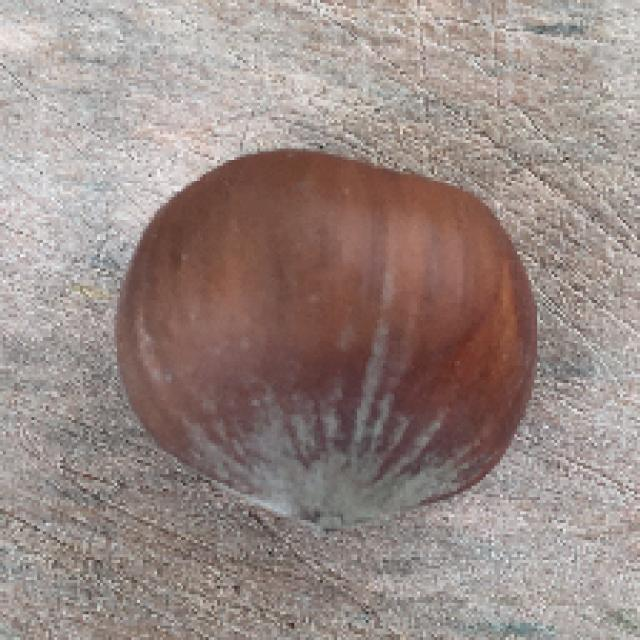DamagedHazelnut: (107, 149, 535, 538)
